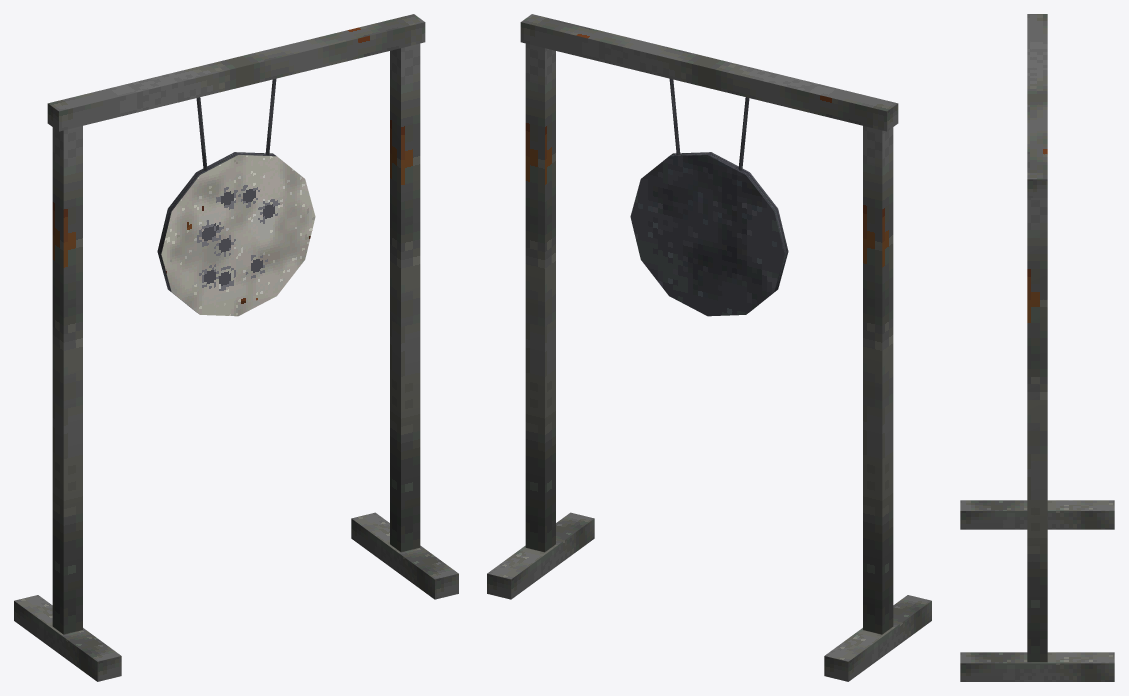
File: target_steel_model.glb
3 renders of one model, left to right at view 1: azimuth 30°, elevation 25°; view 2: azimuth 150°, elevation 25°; view 3: azimuth 270°, elevation 25°, orthographic. The views are drawn at different scales.
Parts seen in each view (by area): view 1: target_steel, target_steel_plate; view 2: target_steel, target_steel_plate; view 3: target_steel.
Boxes of the visible parts, x1,y1,x2,y2 form: target_steel: (14, 14, 458, 681); target_steel_plate: (157, 79, 315, 316); target_steel: (487, 14, 931, 681); target_steel_plate: (630, 79, 788, 316); target_steel: (960, 14, 1114, 681).
Bounding box in the file's own units: 0.76 × 1.08 × 0.3.
1 material, 1 textured.
